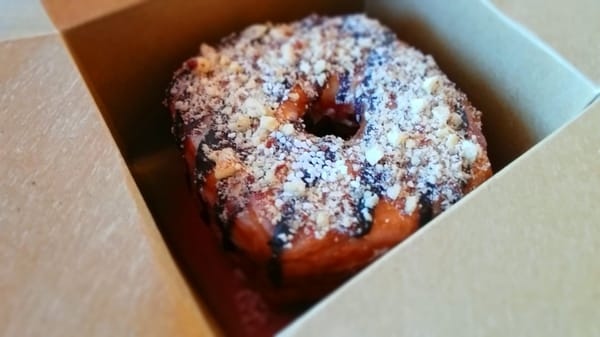salad: (166, 14, 493, 304)
